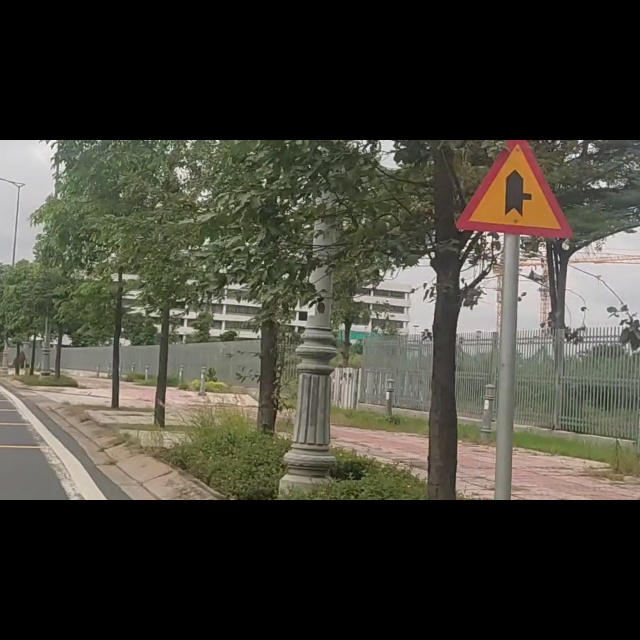bien_cam: (453, 4, 578, 177)
